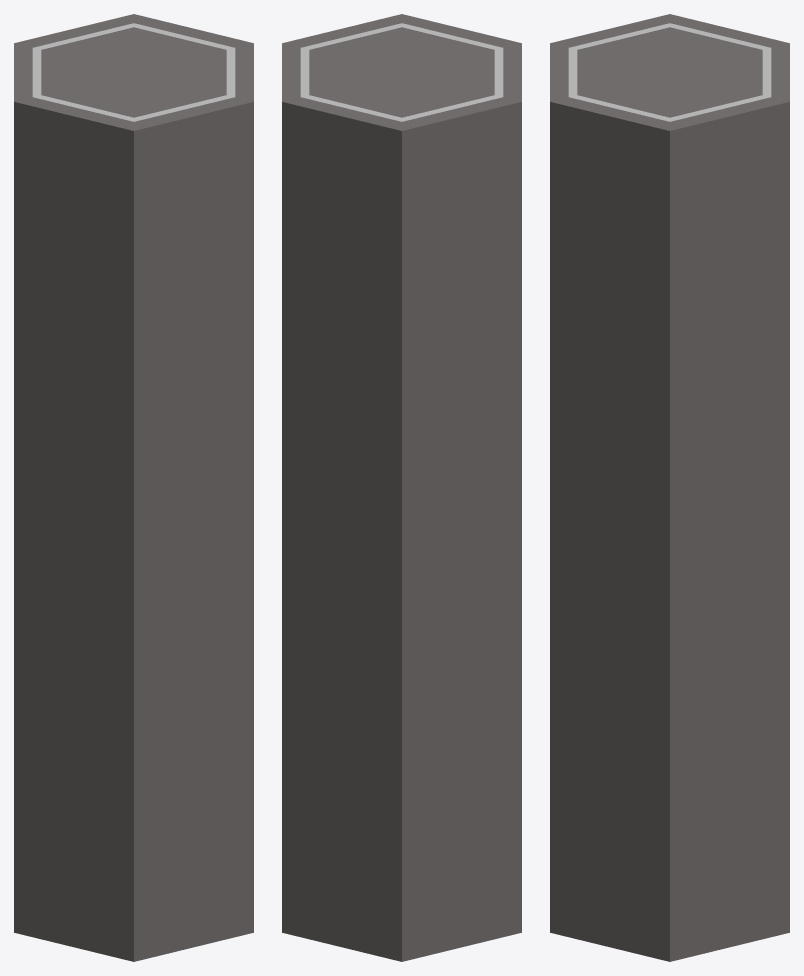
File: N Gon.fbx
3 views of the same model, side by side, from view 1: azimuth 30°, elevation 25°; view 2: azimuth 150°, elevation 25°; view 3: azimuth 270°, elevation 25° (orthographic).
Visible parts, largest first — view 1: N Gon; view 2: N Gon; view 3: N Gon.
Boxes of the visible parts, x1=… form: N Gon: x1=14, y1=14, x2=253, y2=961; N Gon: x1=282, y1=14, x2=521, y2=961; N Gon: x1=550, y1=14, x2=789, y2=961.
Bounding box in the file's own units: 259 × 857 × 224.
